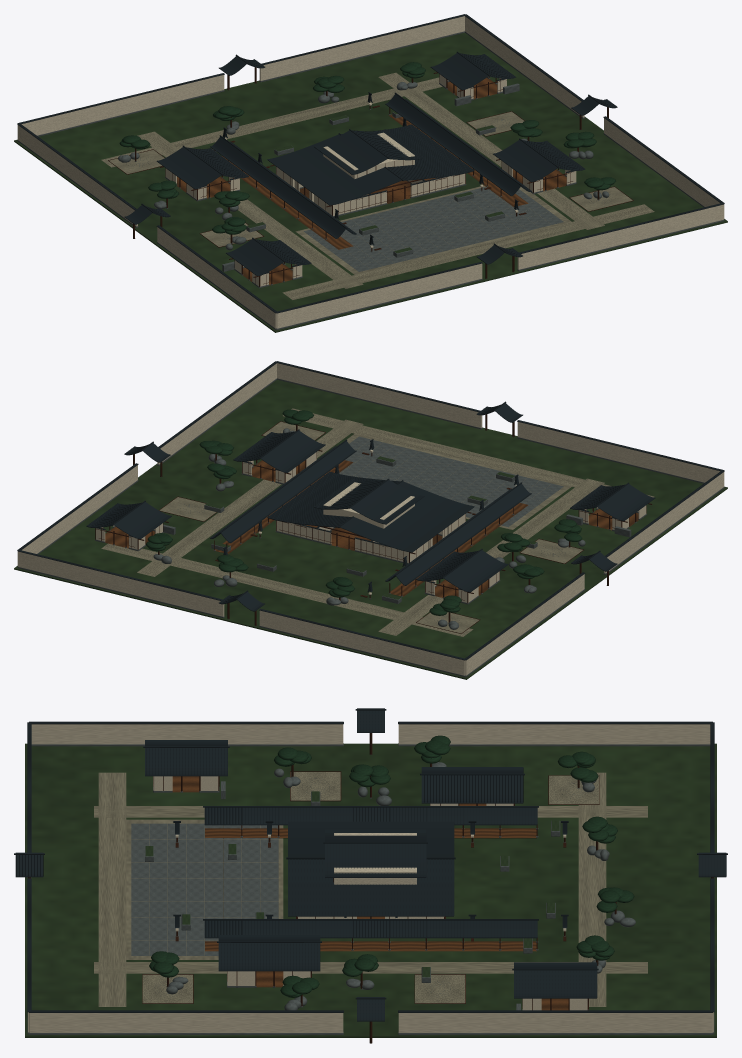
File: Palace.glb
The picture shows the model from 3 angles, top to bottom: view 1: azimuth 30°, elevation 25°; view 2: azimuth 150°, elevation 25°; view 3: azimuth 270°, elevation 25°; orthographic projection. The views are drawn at different scales.
Parts seen in each view (by area): view 1: Palace_chunk_('Garden soil moss', 0, 0), Palace_chunk_('Charcoal ceramic roof', 0, 0), Palace_chunk_('Raked gravel', 0, -3), Palace_chunk_('Warm lime plaster', -2, -4), Palace_chunk_('Warm lime plaster', 1, -4), Palace_chunk_('Warm lime plaster', 1, 3), Palace_chunk_('Warm lime plaster', -2, 3), Palace_chunk_('Granite', 0, -2), Palace_chunk_('Raked gravel', 1, 0), Palace_chunk_('Granite', -1, -2), Palace_chunk_('Raked gravel', 0, 2), Palace_chunk_('Raked gravel', -2, 0) (+26 smaller); view 2: Palace_chunk_('Garden soil moss', 0, 0), Palace_chunk_('Charcoal ceramic roof', 0, 0), Palace_chunk_('Warm lime plaster', -2, 3), Palace_chunk_('Warm lime plaster', 1, 3), Palace_chunk_('Warm lime plaster', 1, -4), Palace_chunk_('Warm lime plaster', -2, -4), Palace_chunk_('Raked gravel', 0, -3), Palace_chunk_('Raked gravel', 0, 2), Palace_chunk_('Raked gravel', 1, 0), Palace_chunk_('Raked gravel', -2, 0), Palace_chunk_('Granite', 0, -2), Palace_chunk_('Granite', -1, -2) (+21 smaller); view 3: Palace_chunk_('Garden soil moss', 0, 0), Palace_chunk_('Charcoal ceramic roof', 0, 0), Palace_chunk_('Raked gravel', 0, -3), Palace_chunk_('Warm lime plaster', -4, 1), Palace_chunk_('Warm lime plaster', 3, 1), Palace_chunk_('Warm lime plaster', 3, -2), Palace_chunk_('Warm lime plaster', -4, -2), Palace_chunk_('Granite', -1, -2), Palace_chunk_('Granite', 0, -2), Palace_chunk_('Raked gravel', 0, 2), Palace_chunk_('Raked gravel', 1, 0), Palace_chunk_('Raked gravel', 0, -2) (+37 smaller).
Part boxes in pixels (left/top/right/bottom): Palace_chunk_('Garden soil moss', 0, 0): left=14, top=32, right=727, bottom=332; Palace_chunk_('Charcoal ceramic roof', 0, 0): left=124, top=53, right=617, bottom=276; Palace_chunk_('Raked gravel', 0, -3): left=282, top=204, right=654, bottom=299; Palace_chunk_('Warm lime plaster', -2, -4): left=276, top=263, right=482, bottom=328; Palace_chunk_('Warm lime plaster', 1, -4): left=517, top=204, right=723, bottom=269; Palace_chunk_('Warm lime plaster', 1, 3): left=259, top=16, right=464, bottom=80; Palace_chunk_('Warm lime plaster', -2, 3): left=21, top=75, right=224, bottom=135; Palace_chunk_('Granite', 0, -2): left=407, top=195, right=520, bottom=243; Palace_chunk_('Raked gravel', 1, 0): left=378, top=72, right=604, bottom=229; Palace_chunk_('Granite', -1, -2): left=341, top=213, right=447, bottom=260; Palace_chunk_('Raked gravel', 0, 2): left=101, top=77, right=442, bottom=167; Palace_chunk_('Raked gravel', -2, 0): left=137, top=131, right=363, bottom=288; Palace_chunk_('Garden soil moss', 0, 0): left=14, top=379, right=727, bottom=679; Palace_chunk_('Charcoal ceramic roof', 0, 0): left=86, top=403, right=655, bottom=611; Palace_chunk_('Warm lime plaster', -2, 3): left=259, top=610, right=465, bottom=675; Palace_chunk_('Warm lime plaster', 1, 3): left=18, top=551, right=224, bottom=616; Palace_chunk_('Warm lime plaster', 1, -4): left=277, top=363, right=482, bottom=427; Palace_chunk_('Warm lime plaster', -2, -4): left=517, top=422, right=720, bottom=482; Palace_chunk_('Raked gravel', 0, -3): left=282, top=408, right=654, bottom=497; Palace_chunk_('Raked gravel', 0, 2): left=101, top=543, right=473, bottom=636; Palace_chunk_('Raked gravel', 1, 0): left=137, top=419, right=363, bottom=576; Palace_chunk_('Raked gravel', -2, 0): left=378, top=478, right=604, bottom=635; Palace_chunk_('Granite', 0, -2): left=353, top=450, right=459, bottom=491; Palace_chunk_('Granite', -1, -2): left=429, top=468, right=532, bottom=512; Palace_chunk_('Garden soil moss', 0, 0): left=25, top=743, right=716, bottom=1037; Palace_chunk_('Charcoal ceramic roof', 0, 0): left=15, top=708, right=726, bottom=1021; Palace_chunk_('Raked gravel', 0, -3): left=98, top=772, right=126, bottom=1006; Palace_chunk_('Warm lime plaster', -4, 1): left=398, top=724, right=710, bottom=744; Palace_chunk_('Warm lime plaster', 3, 1): left=398, top=1013, right=712, bottom=1032; Palace_chunk_('Warm lime plaster', 3, -2): left=29, top=1013, right=343, bottom=1032; Palace_chunk_('Warm lime plaster', -4, -2): left=31, top=724, right=343, bottom=744; Palace_chunk_('Granite', -1, -2): left=145, top=839, right=259, bottom=885; Palace_chunk_('Granite', 0, -2): left=149, top=886, right=259, bottom=932; Palace_chunk_('Raked gravel', 0, 2): left=578, top=772, right=606, bottom=1006; Palace_chunk_('Raked gravel', 1, 0): left=94, top=962, right=647, bottom=973; Palace_chunk_('Raked gravel', 0, -2): left=126, top=819, right=283, bottom=959.
Bounding box in the file's own units: 160 × 12.07 × 155.
9 materials, 8 textured.
